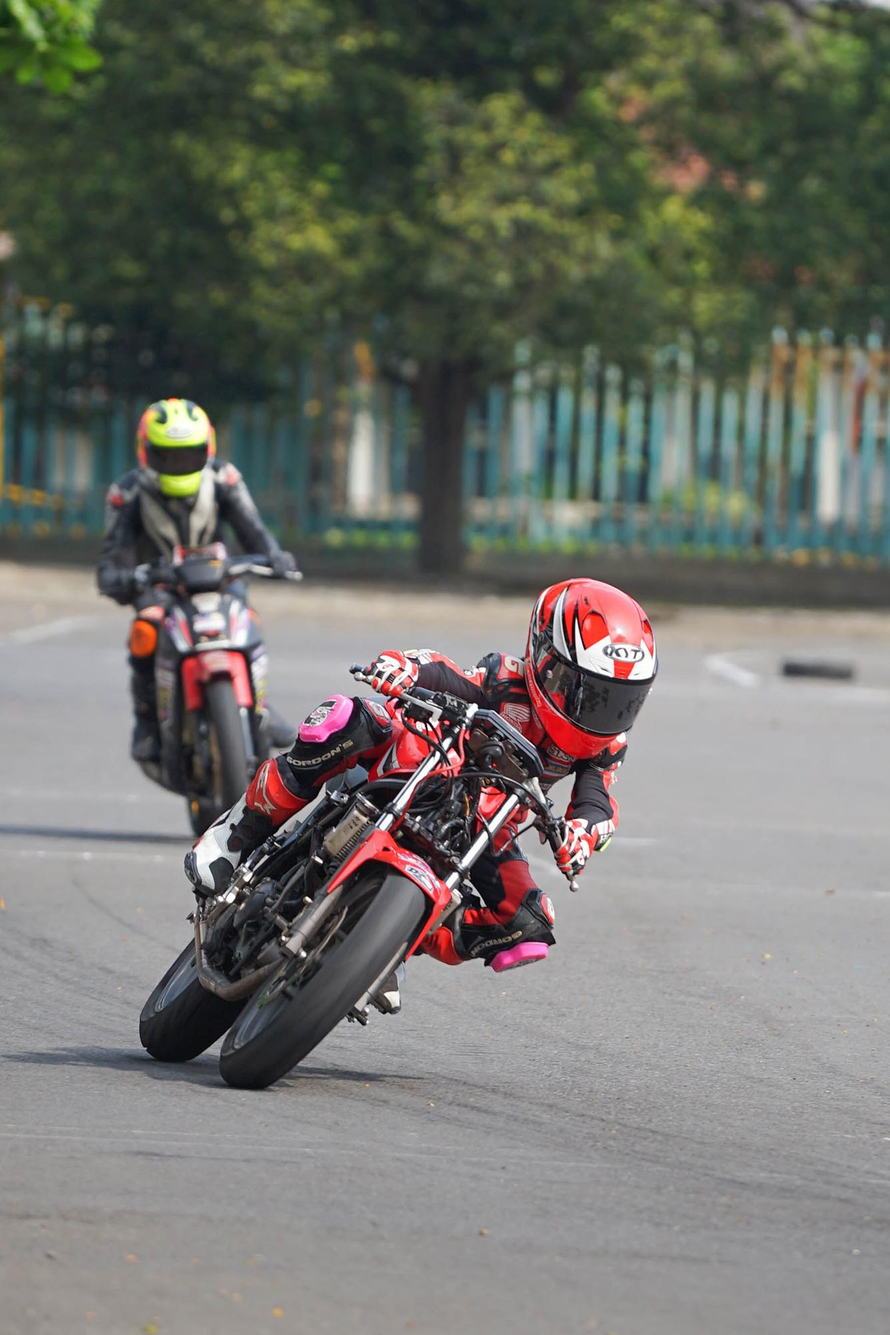helmet: (523, 576, 659, 761), (134, 396, 218, 501)
